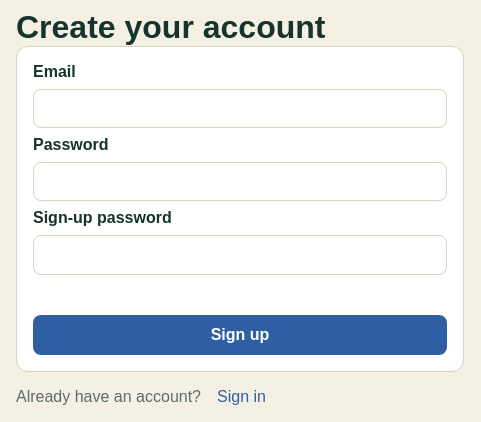
Test case: an empty sign-up password shows the backend's message and stays on sign-up
The image size is (481, 422).
Type "dana@example.com" into the field labelled "Email" at [240, 109], box [33,89,447,128]
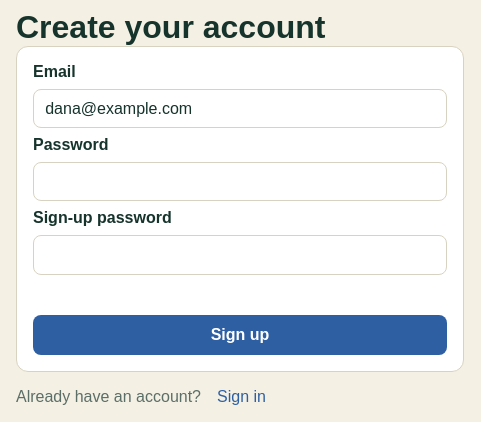
Type "cornhole1" into the password field labelled "Password" at [240, 182], box [33,162,447,201]
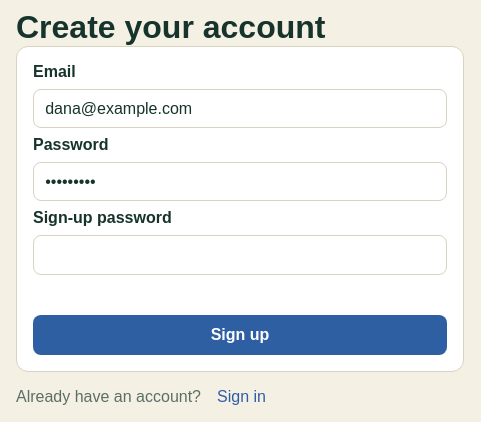
Click the button "Sign up" at [240, 335], box [33,315,447,355]
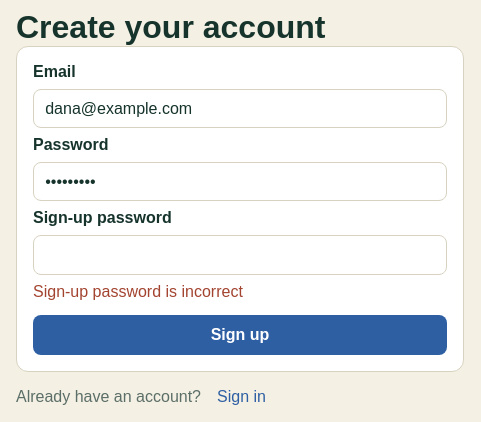
Expected: the text "Sign-up password is incorrect" is shown, [33,283,243,300]
